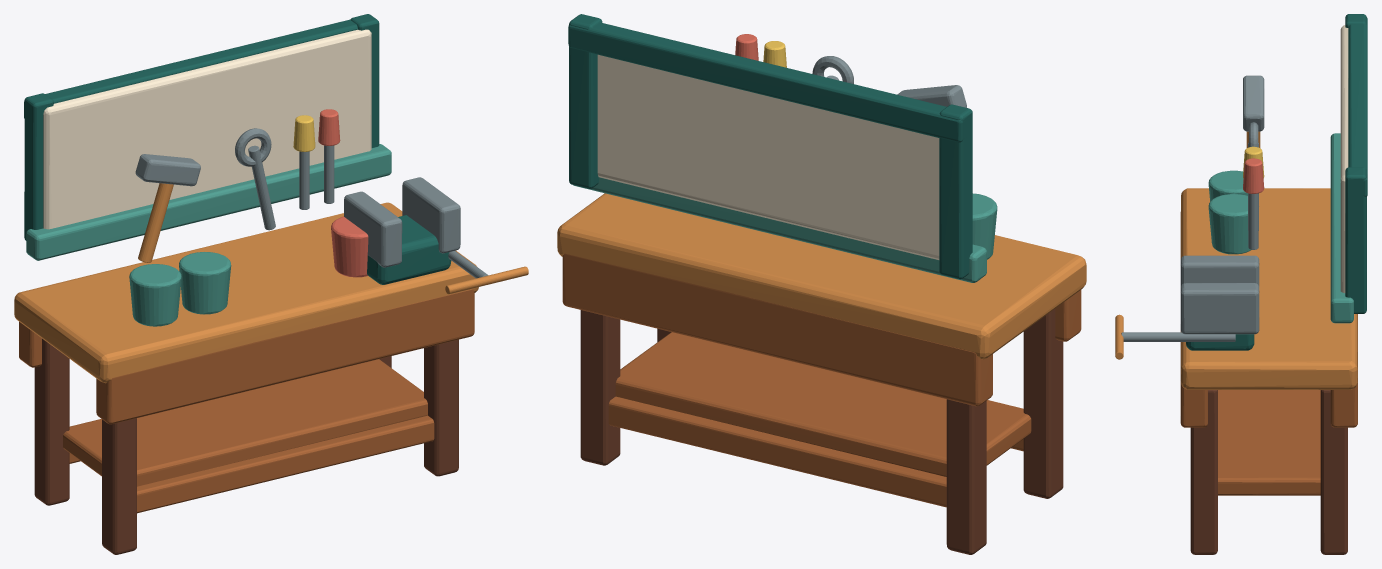
Rendered from workbench.glb.
3 views of the same model, side by side, from view 1: azimuth 30°, elevation 25°; view 2: azimuth 150°, elevation 25°; view 3: azimuth 270°, elevation 25° (orthographic). The views are drawn at different scales.
Parts seen in each view (by area): view 1: Pegboard, Worktop, Lower_Shelf, Worktop_Apron_Front, Rear_Tool_Rail, Lower_Brace_Front, Leg_-0.91_0.33, Leg_-0.91_-0.33, Leg_0.91_-0.33, Pegboard_Back_Frame, Tool_Container_1, Vise_Moving_Jaw (+16 smaller); view 2: Pegboard, Worktop, Lower_Shelf, Worktop_Apron_Back, Pegboard_Back_Frame, Lower_Brace_Back, Leg_-0.91_-0.33, Leg_-0.91_0.33, Rear_Tool_Rail, Leg_0.91_0.33, Pegboard_Side_Frame, Pegboard_Side_Frame.001 (+3 smaller); view 3: Worktop, Lower_Shelf, Vise_Moving_Jaw, Leg_0.91_0.33, Leg_0.91_-0.33, Pegboard_Back_Frame, Pegboard_Side_Frame.001, Rear_Tool_Rail, Vise_Fixed_Jaw, Tool_Container_2, Pegboard, Worktop_Apron_Front (+8 smaller).
Boxes of the visible parts, <box> form: Pegboard: <box>43,29,371,229</box>; Worktop: <box>14,202,478,383</box>; Lower_Shelf: <box>63,359,427,486</box>; Worktop_Apron_Front: <box>96,289,474,424</box>; Rear_Tool_Rail: <box>26,144,391,260</box>; Lower_Brace_Front: <box>137,415,434,513</box>; Leg_-0.91_0.33: <box>34,338,69,505</box>; Leg_-0.91_-0.33: <box>102,418,136,554</box>; Leg_0.91_-0.33: <box>424,339,458,476</box>; Pegboard_Back_Frame: <box>24,19,358,120</box>; Tool_Container_1: <box>129,264,181,326</box>; Vise_Moving_Jaw: <box>402,177,460,253</box>; Pegboard: <box>597,54,939,259</box>; Worktop: <box>557,193,1086,359</box>; Lower_Shelf: <box>615,332,1031,476</box>; Worktop_Apron_Back: <box>562,253,992,406</box>; Pegboard_Back_Frame: <box>568,22,970,142</box>; Lower_Brace_Back: <box>608,396,946,507</box>; Leg_-0.91_-0.33: <box>1023,309,1063,498</box>; Leg_-0.91_0.33: <box>946,399,986,554</box>; Rear_Tool_Rail: <box>573,177,986,282</box>; Leg_0.91_0.33: <box>580,310,620,465</box>; Pegboard_Side_Frame: <box>939,104,972,279</box>; Pegboard_Side_Frame.001: <box>569,14,602,188</box>; Worktop: <box>1181,188,1357,389</box>; Lower_Shelf: <box>1218,390,1320,495</box>; Vise_Moving_Jaw: <box>1180,283,1259,334</box>; Leg_0.91_0.33: <box>1320,390,1347,554</box>; Leg_0.91_-0.33: <box>1190,390,1217,554</box>; Pegboard_Back_Frame: <box>1348,17,1367,196</box>; Pegboard_Side_Frame.001: <box>1345,167,1366,313</box>; Rear_Tool_Rail: <box>1330,133,1353,323</box>; Vise_Fixed_Jaw: <box>1180,255,1259,286</box>; Tool_Container_2: <box>1208,194,1251,254</box>; Pegboard: <box>1340,25,1348,293</box>; Worktop_Apron_Front: <box>1180,212,1207,427</box>.
Size of the model in its own units: 2.22 by 2.13 by 1.28.
